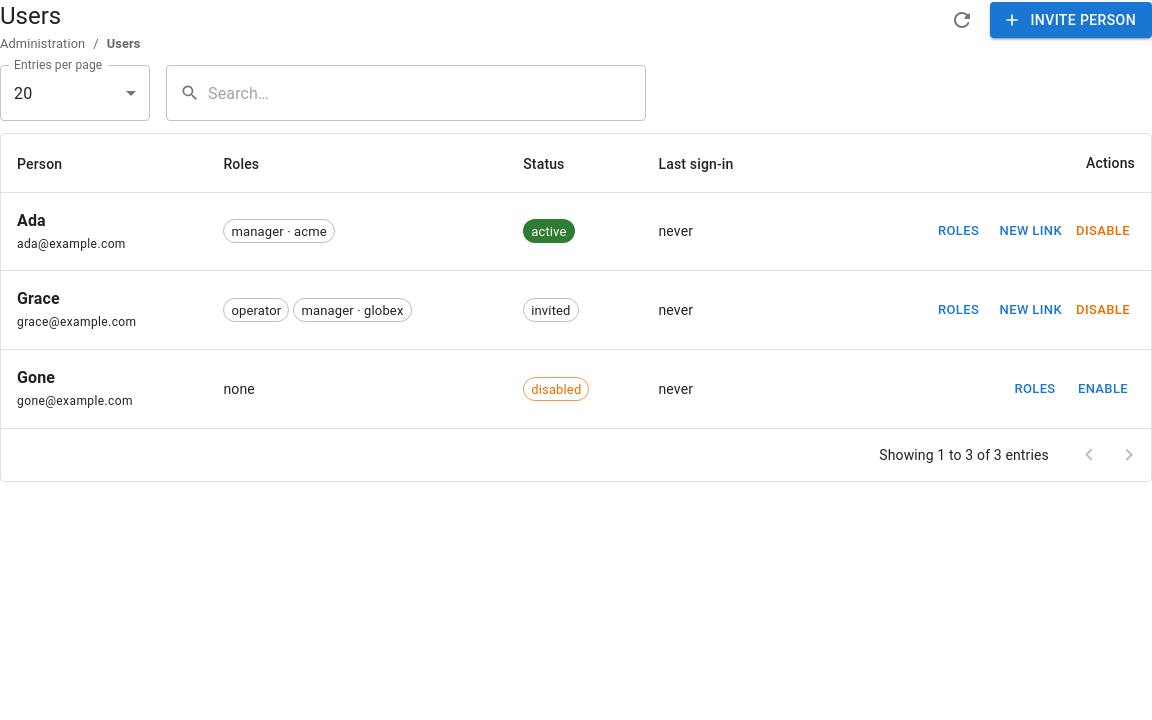
UsersPage › inviting › prefers the server's own address when it knows one
Click the button "Invite person" at (1071,20), box [990,2,1151,38]
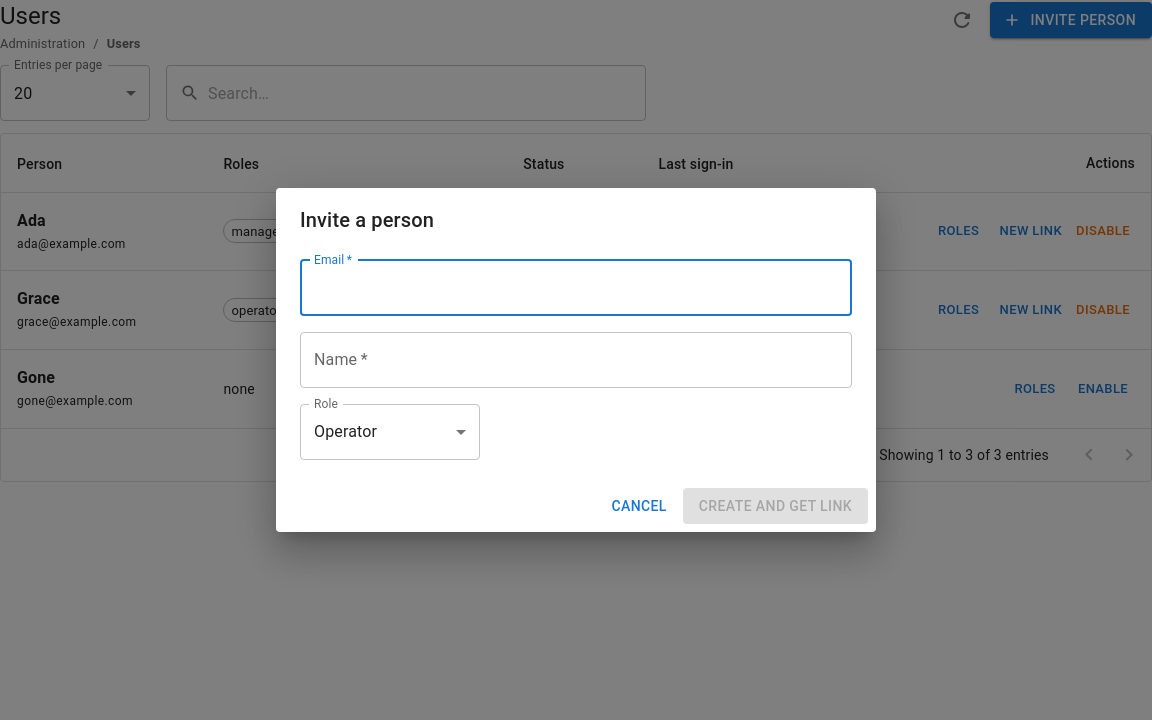
Type "new@example.com" into the field labelled "Email *" at (576,288), box [300,260,852,316]
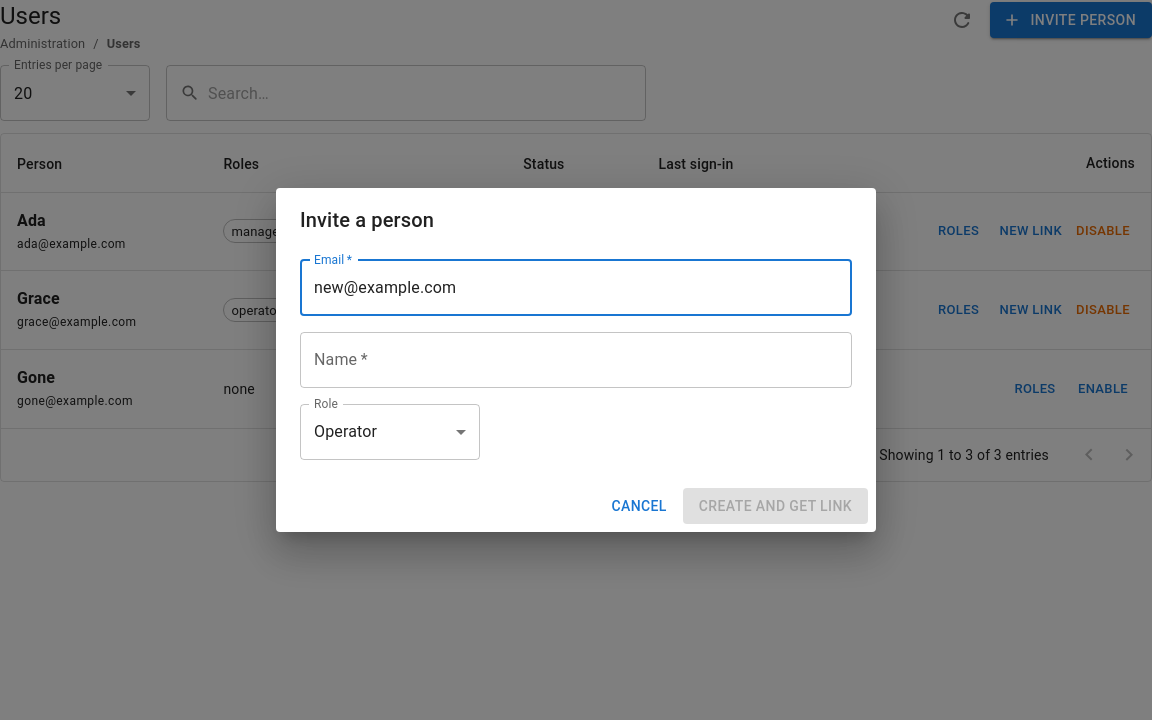
Type "Nora" into the field labelled "Name *" at (576,360), box [300,332,852,388]
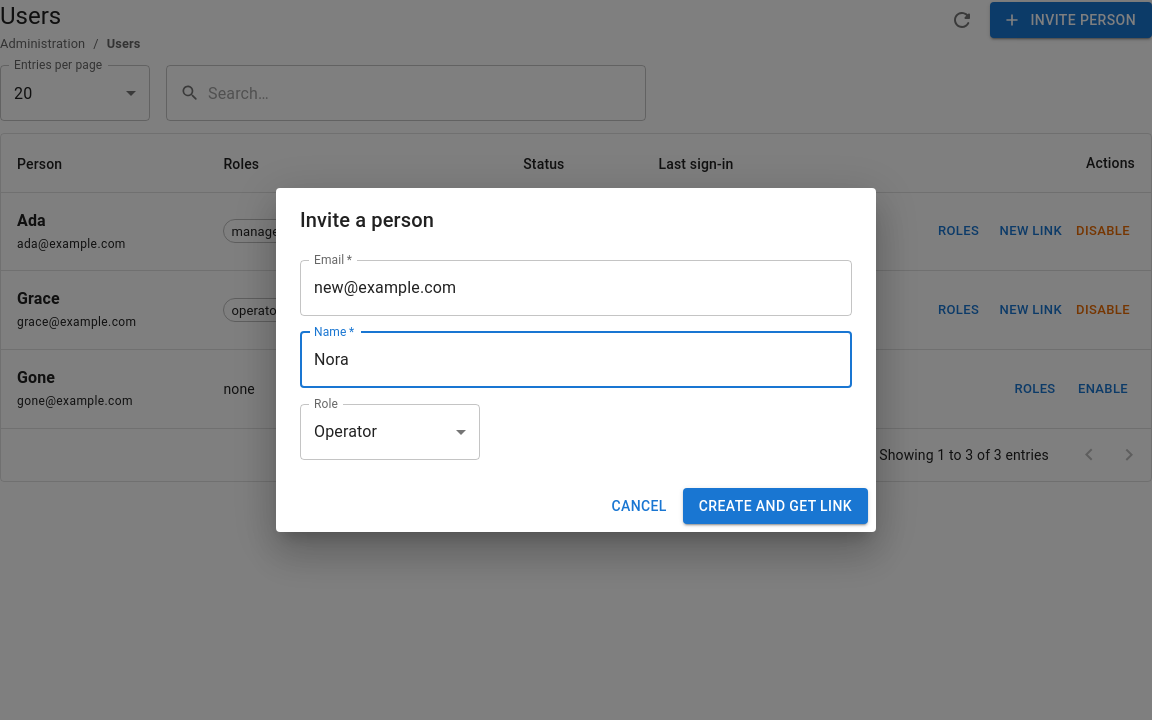
Click the button "Create and get link" at (775,506), box [683,488,868,524]
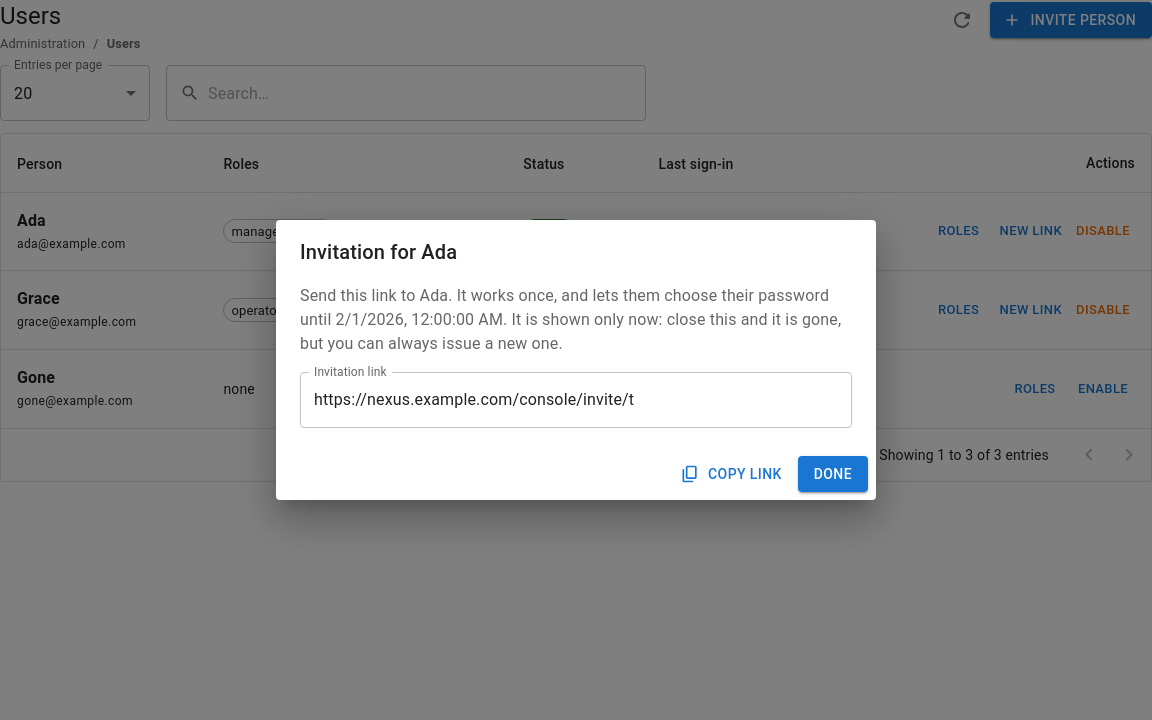
Result: the field labelled "Invitation link" holds "https://nexus.example.com/console/invite/t" at [300,372,852,428]
